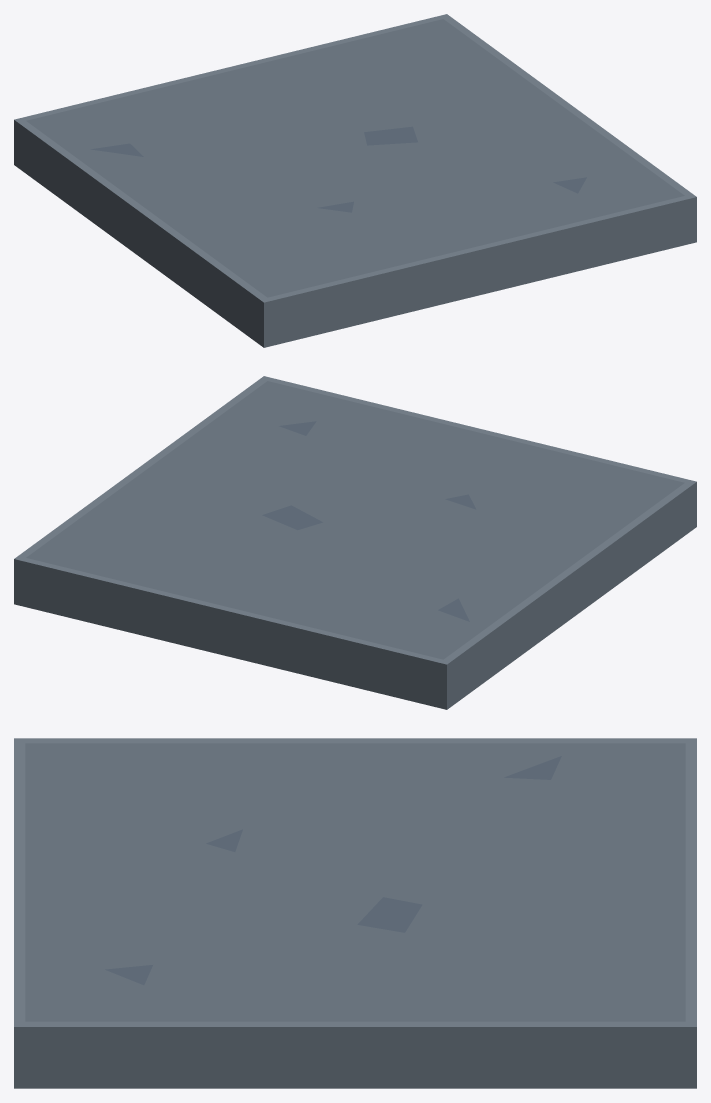
The model's file is ConcrateSlabs_D_2_3.fbx.
The picture shows the model from 3 angles, top to bottom: view 1: azimuth 30°, elevation 25°; view 2: azimuth 150°, elevation 25°; view 3: azimuth 270°, elevation 25°; orthographic projection. The views are drawn at different scales.
Visible parts, largest first — view 1: ConcrateSlabs_D_2_3; view 2: ConcrateSlabs_D_2_3; view 3: ConcrateSlabs_D_2_3.
Boxes of the visible parts, x1,y1,x2,y2 form: ConcrateSlabs_D_2_3: (14,14,696,347); ConcrateSlabs_D_2_3: (14,376,696,709); ConcrateSlabs_D_2_3: (14,738,696,1088).
Bounding box in the file's own units: 400 × 40 × 400.
